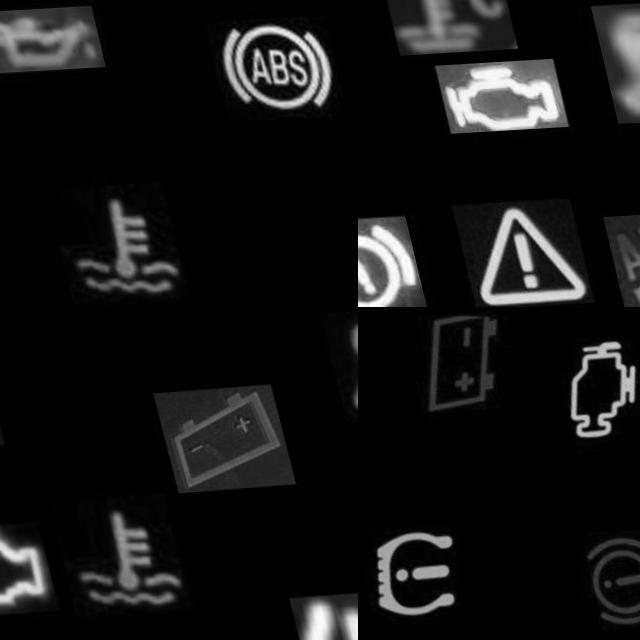Central Warning lamp: (439, 204, 577, 307)
Engine cooling system: (30, 497, 172, 622), (29, 183, 170, 307), (381, 0, 513, 59)
